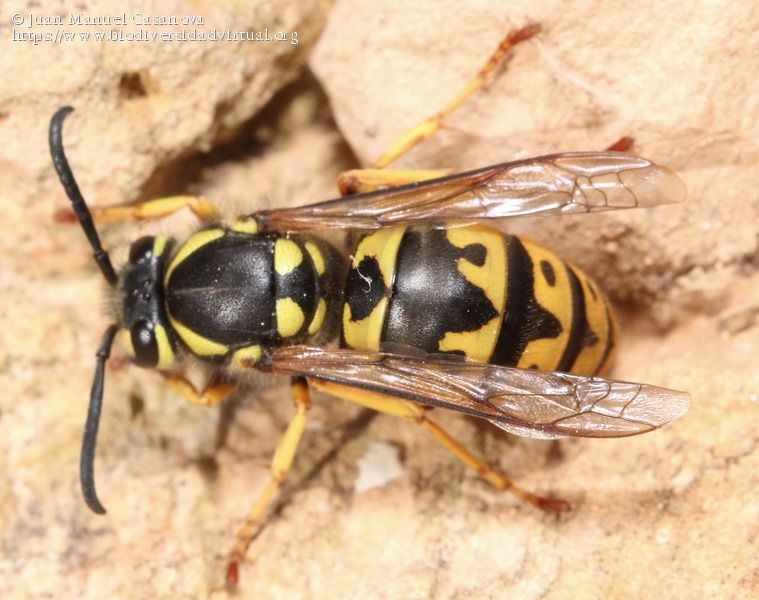chax: (25, 80, 719, 558)
